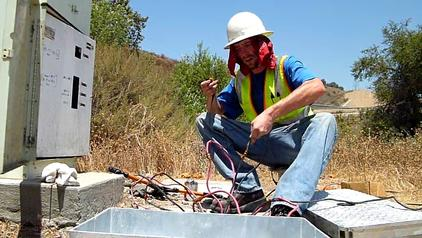sit: (43, 162, 76, 208)
